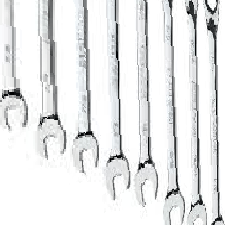wrench: (88, 125, 174, 202)
